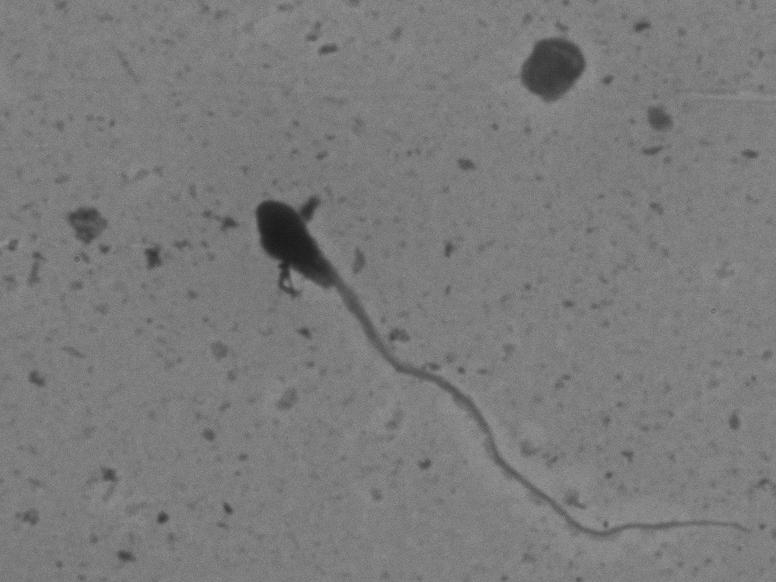Abnormal: (195, 143, 758, 554)
